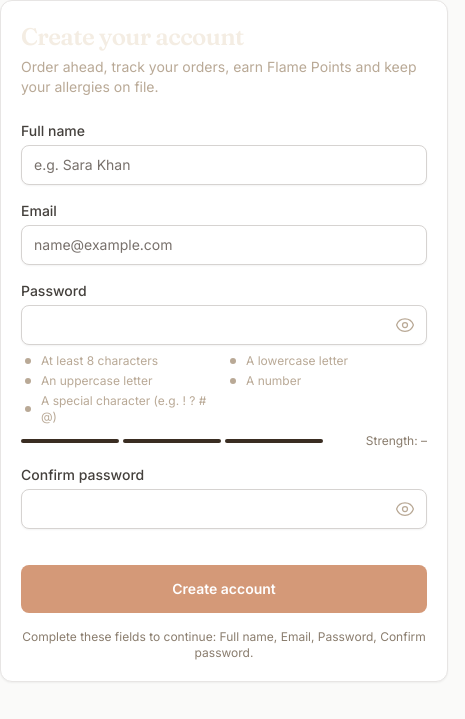
Test: RegisterForm › shows the password checklist updating live, neutral until submit
The width and height of the screenshot is (465, 719).
Step 1. Type "ember" into the password field labelled "Password" → {"x": 224, "y": 325}, box [21,305,427,345]
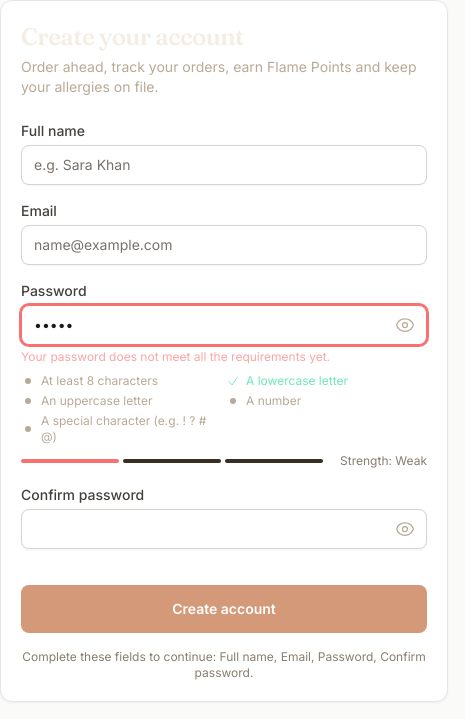
Step 2. Type "-Grill7" into the password field labelled "Password" → {"x": 224, "y": 325}, box [21,305,427,345]
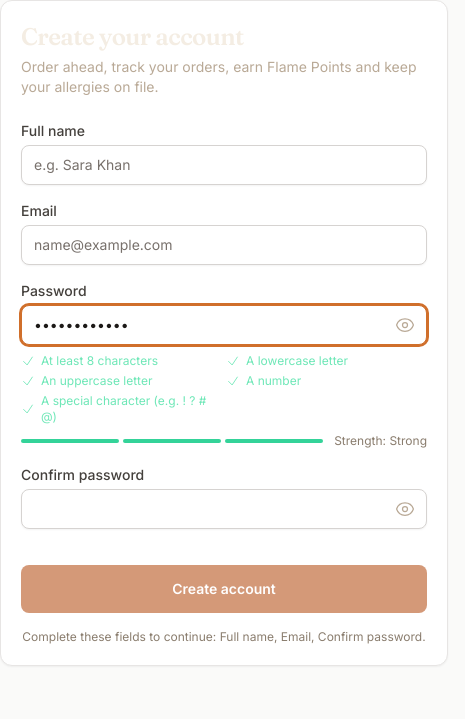
Check: the text "Strength: Strong" is shown, box [331,433,427,449]
